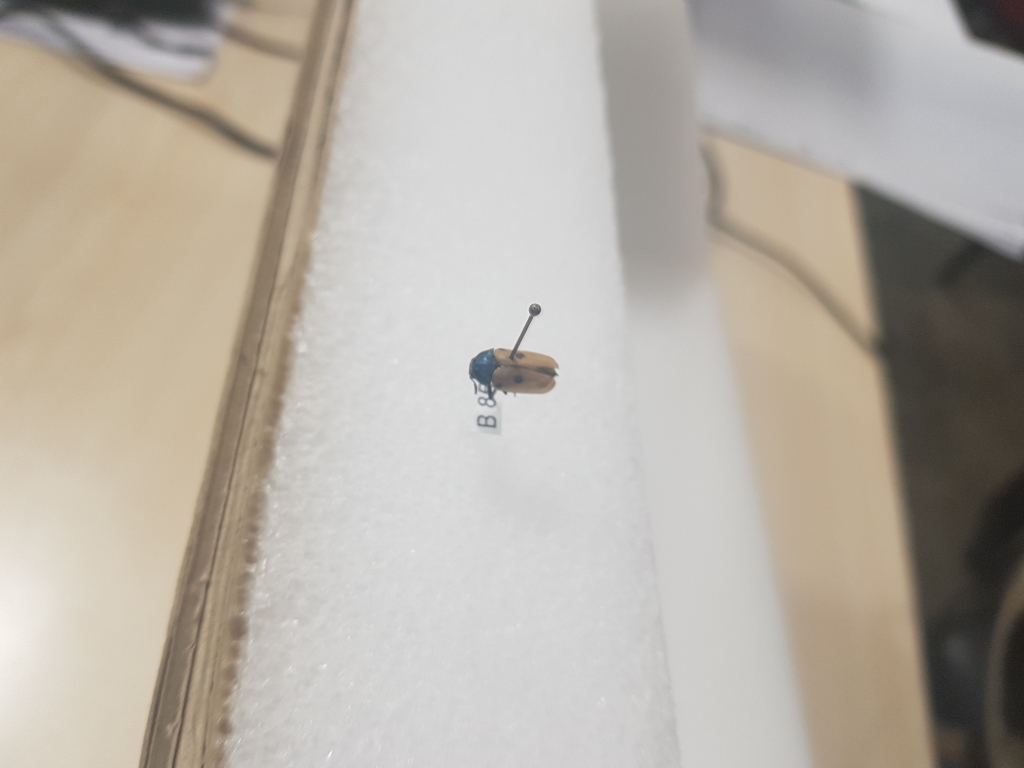Labidostomis_maculipennis: (461, 343, 566, 399)
